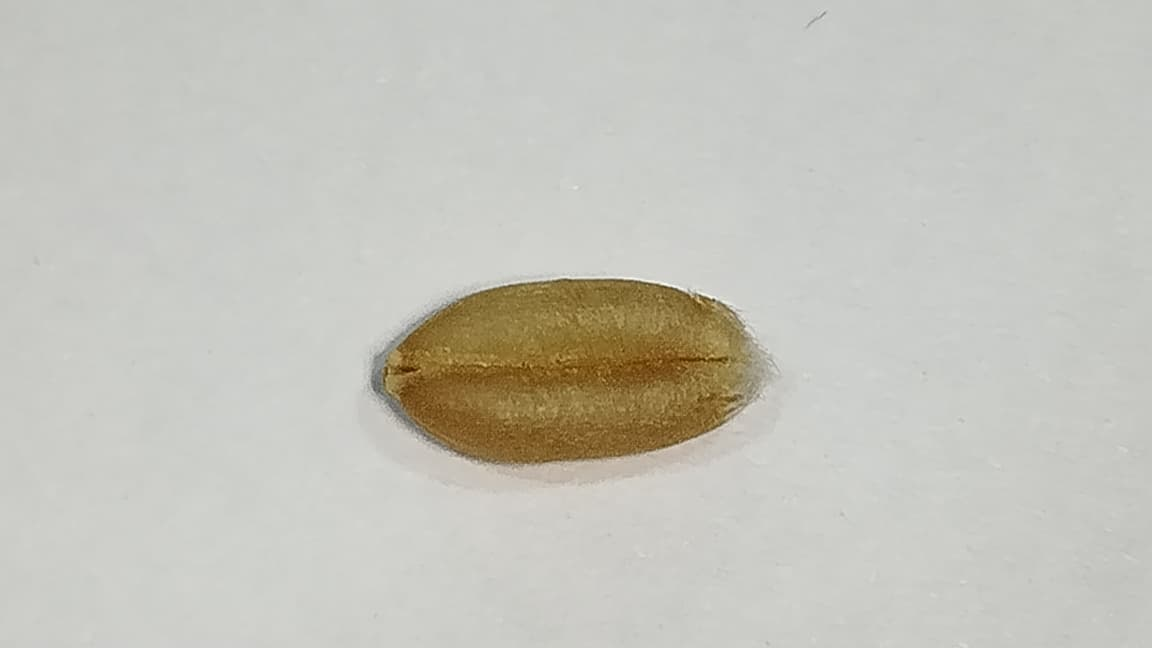healthy: (383, 279, 775, 462)
